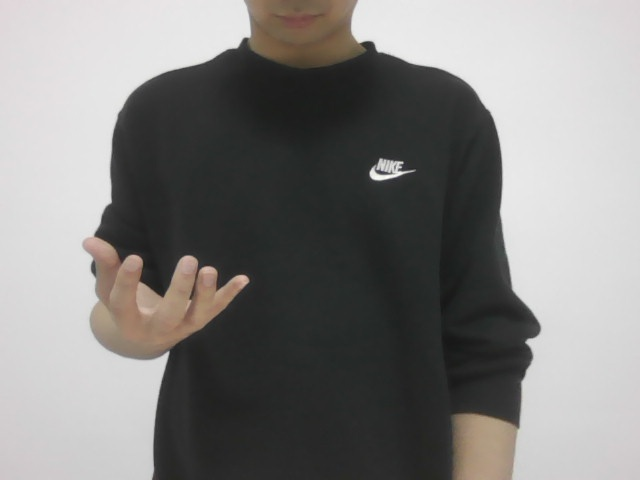flavor: (77, 227, 250, 358)
